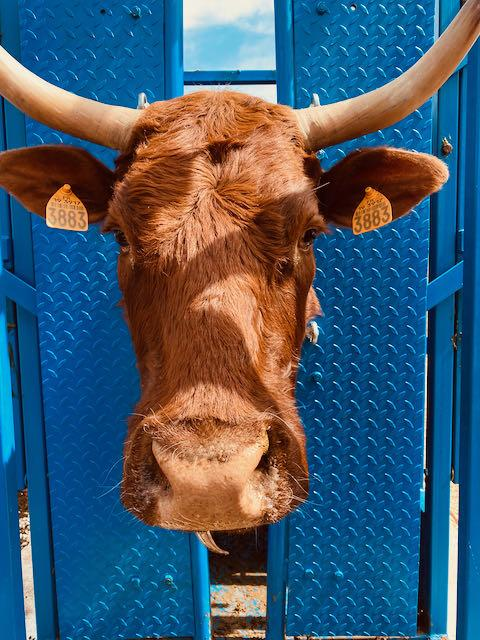muzzles: (111, 408, 315, 537)
